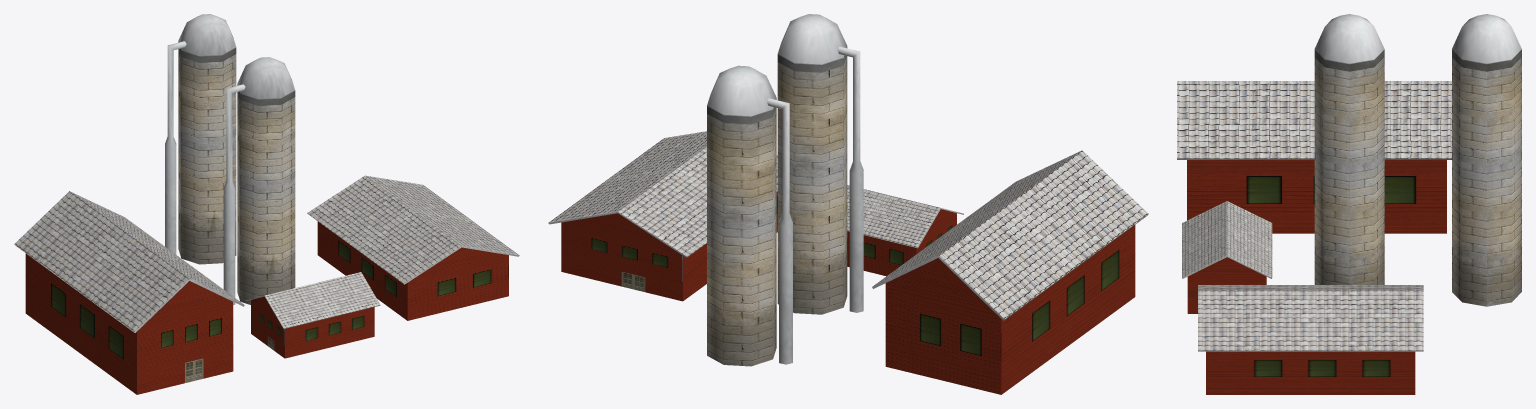
File: sb_farm_mesh_mj.fbx
3 views of the same model, side by side, from view 1: azimuth 30°, elevation 25°; view 2: azimuth 150°, elevation 25°; view 3: azimuth 270°, elevation 25° (orthographic). The views are drawn at different scales.
Visible parts, largest first — view 1: sb_farm_mesh_mj; view 2: sb_farm_mesh_mj; view 3: sb_farm_mesh_mj.
Boxes of the visible parts, <box> form: sb_farm_mesh_mj: <box>14,14,519,394</box>; sb_farm_mesh_mj: <box>548,14,1148,394</box>; sb_farm_mesh_mj: <box>1177,14,1521,394</box>.
Size of the model in its own units: 40.9 by 23.33 by 26.55.
